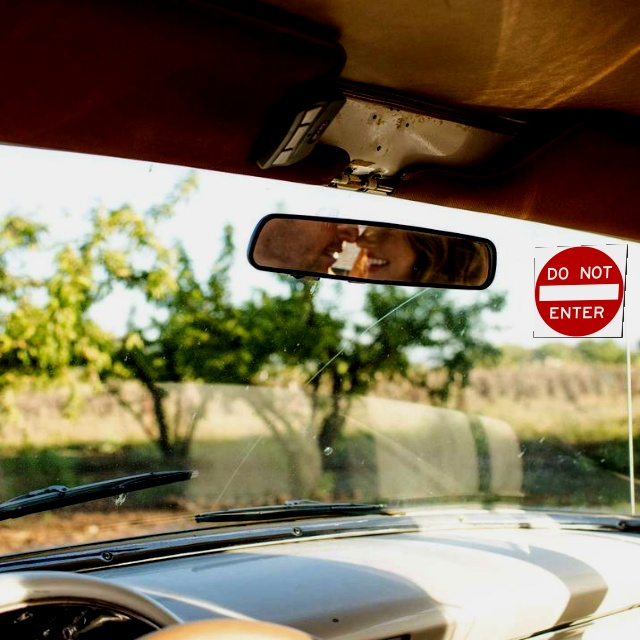DO_NOT_ENTER: (533, 243, 628, 338)
